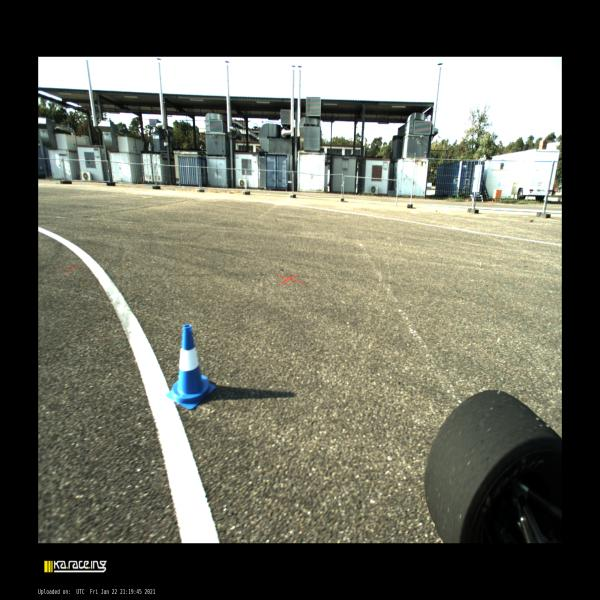blue_cone: (167, 325, 216, 410)
